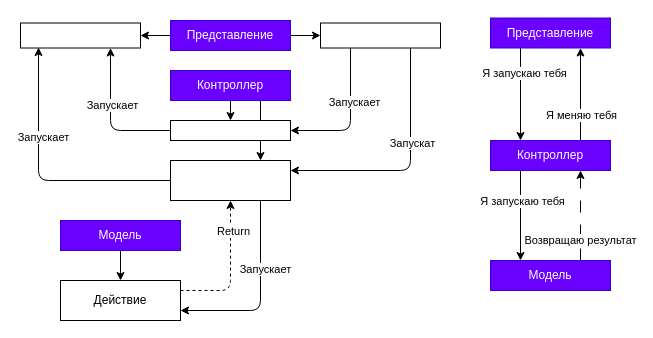
This 653x338 diagram has some shape labels left out. The shapes that lost their labels are listed below. From the top down, each one's box as (x1, y1, x2, y2) in pixels, then its label:
(20, 22, 140, 48): Методы дизайна
(320, 22, 440, 48): Методы события
(170, 120, 290, 140): Обработка
(170, 160, 290, 200): Обработка 2
